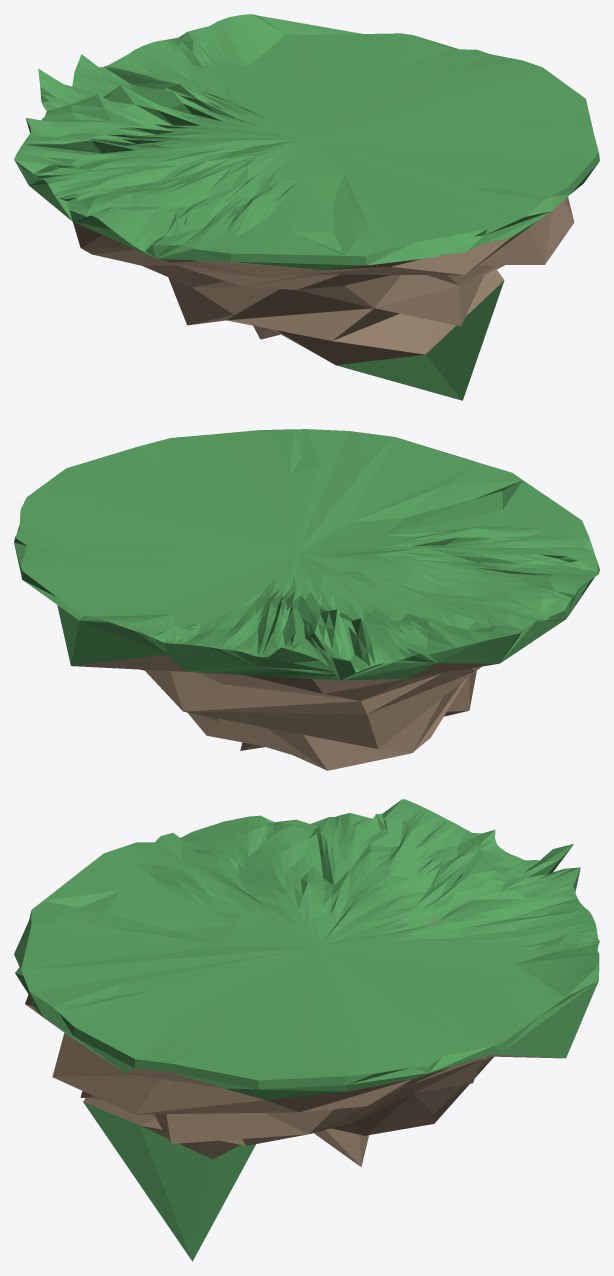
Rendered from forest_island_1.fbx.
3 views of the same model, one above another, from view 1: azimuth 30°, elevation 25°; view 2: azimuth 150°, elevation 25°; view 3: azimuth 270°, elevation 25° (orthographic). The views are drawn at different scales.
Visible parts, largest first — view 1: Cone_1.003; view 2: Cone_1.003; view 3: Cone_1.003.
Part boxes in pixels (bbox=[...]): Cone_1.003: bbox=[14, 14, 599, 400]; Cone_1.003: bbox=[14, 429, 599, 770]; Cone_1.003: bbox=[14, 799, 599, 1261].
Bounding box in the file's own units: 9401 × 4794 × 8705.
